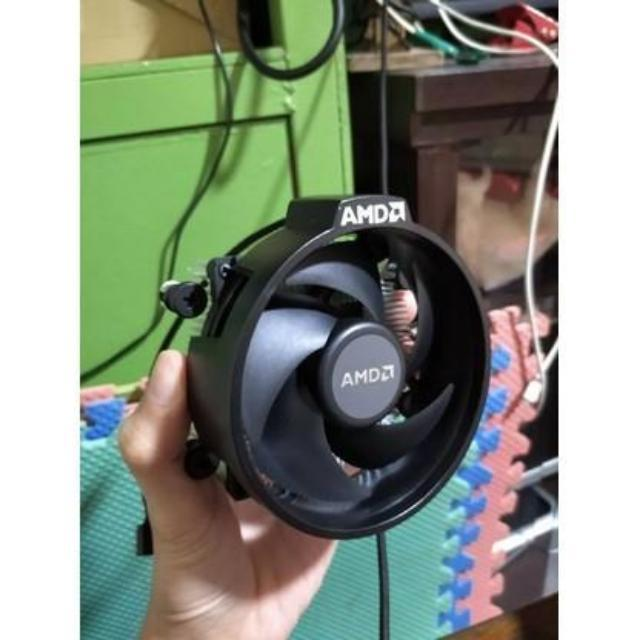CPU_Fan: (168, 205, 494, 532)
